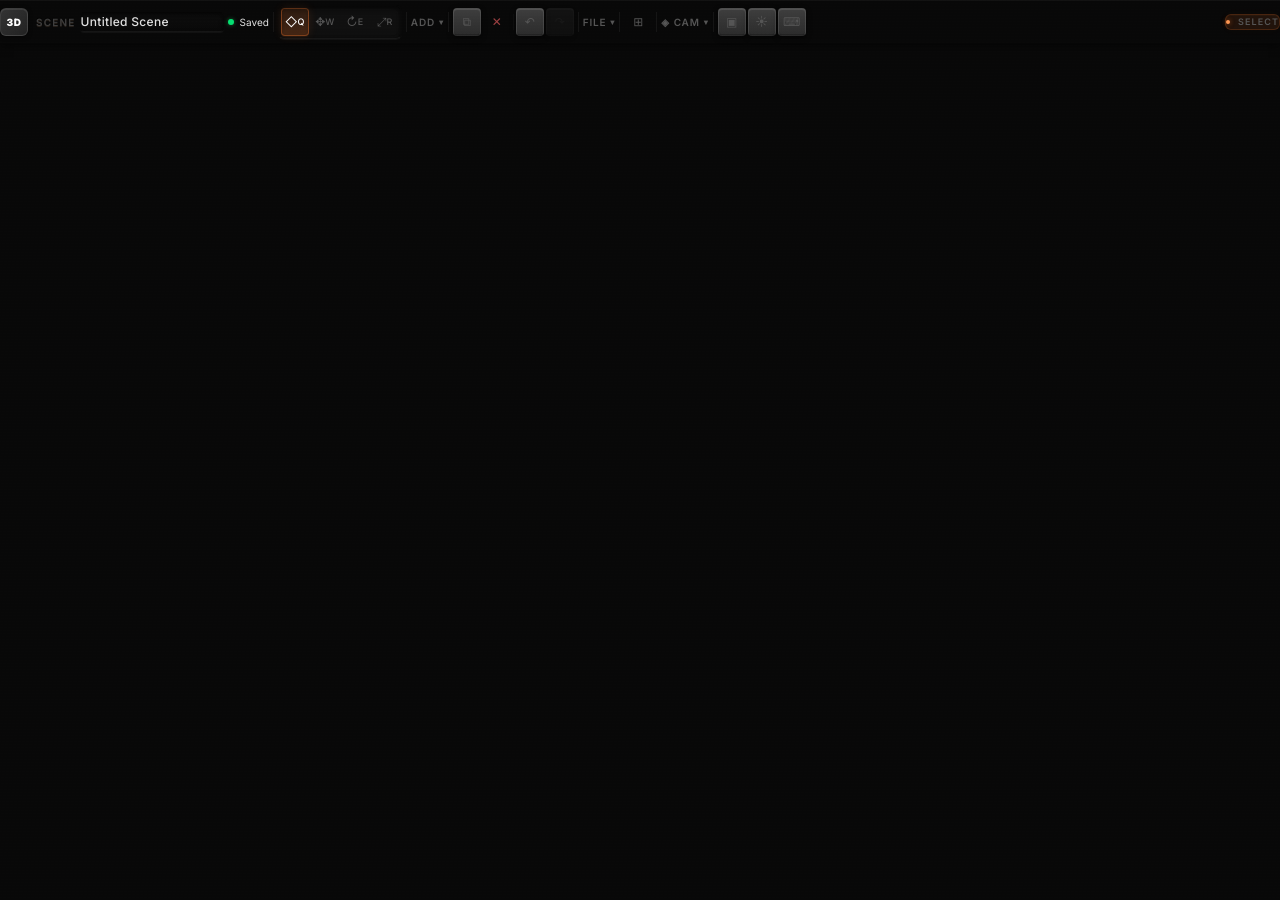
it: Toolbar › Reset confirmation dialog › clicking "Cancel" closes the dialog
Click the button with aria-label "File operations": (599, 22) [583,8,615,36]
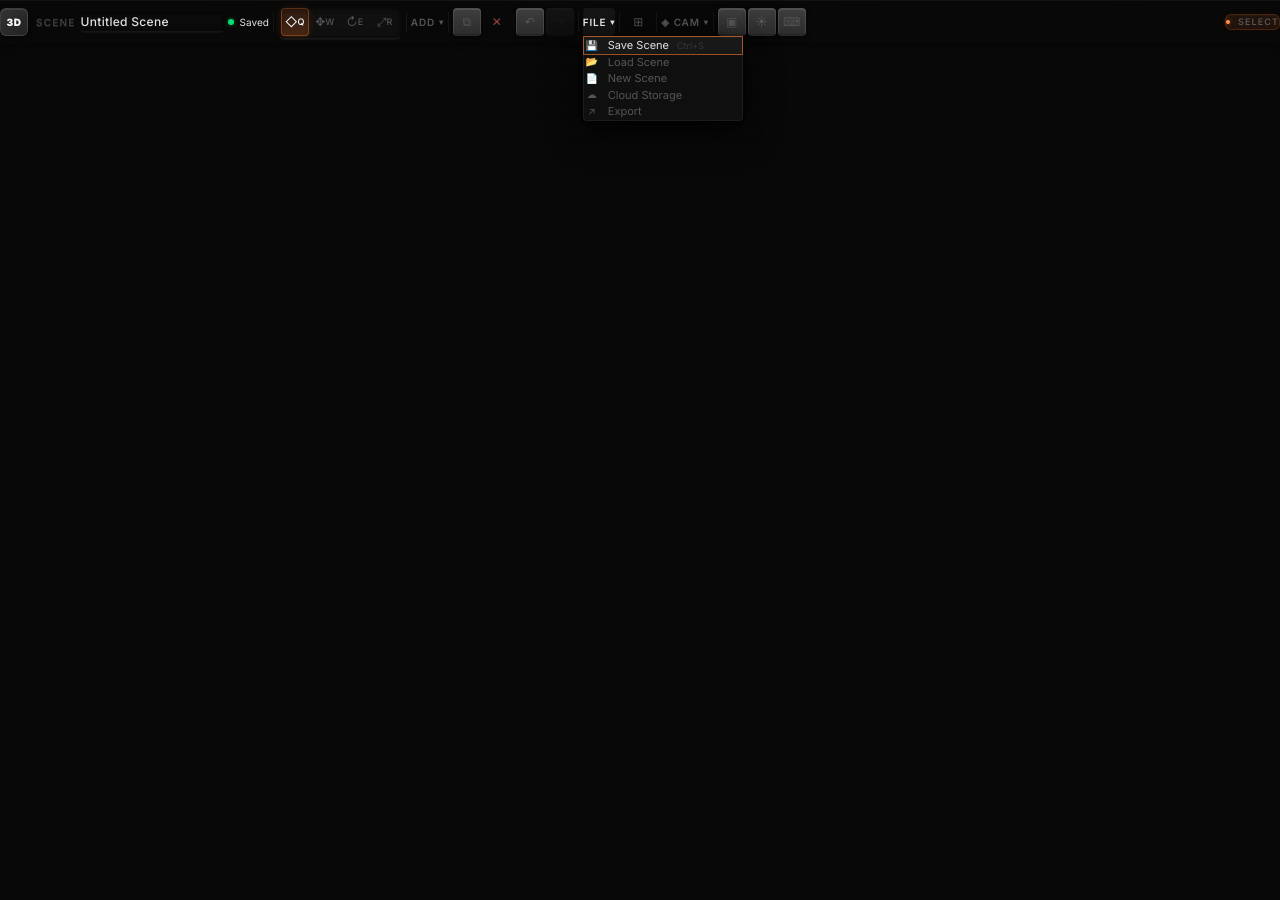
Click the menu item "📄 New Scene": (663, 78) [584,70,742,86]
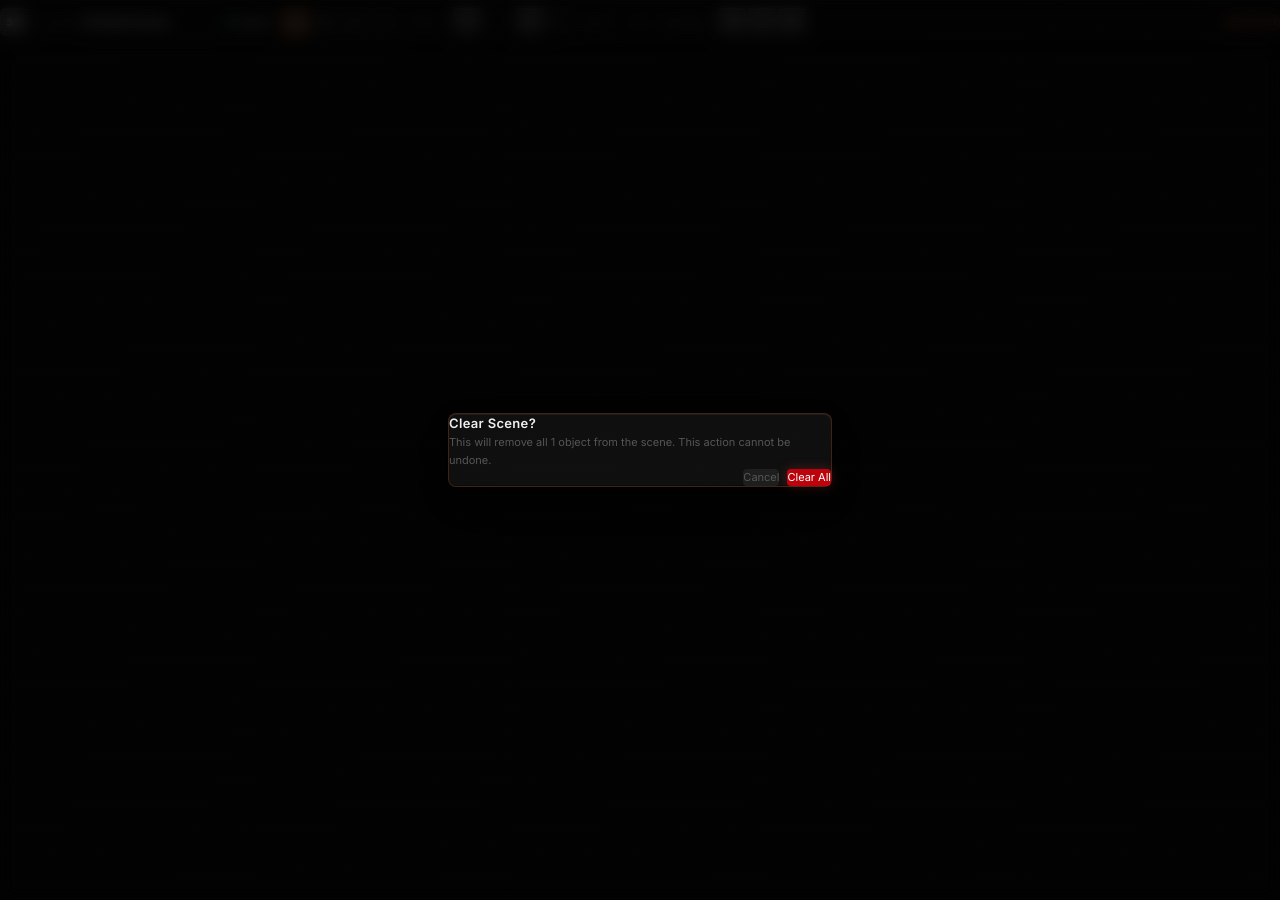
Check: the heading "Clear Scene?" is shown, box [449,415,536,431]
Click the button "Cancel": (761, 478) [743,469,780,486]
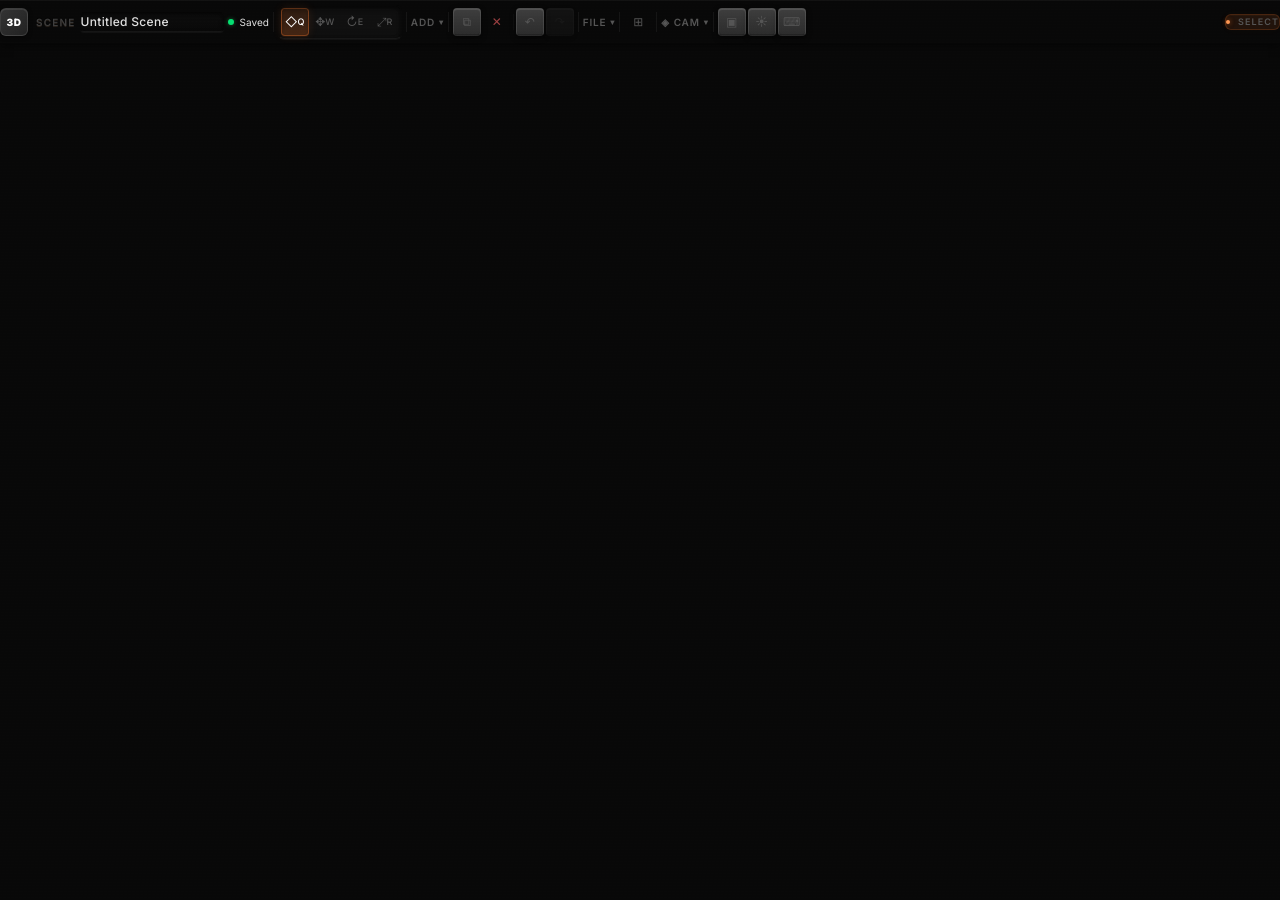
Check: the heading "Clear Scene?" is gone
